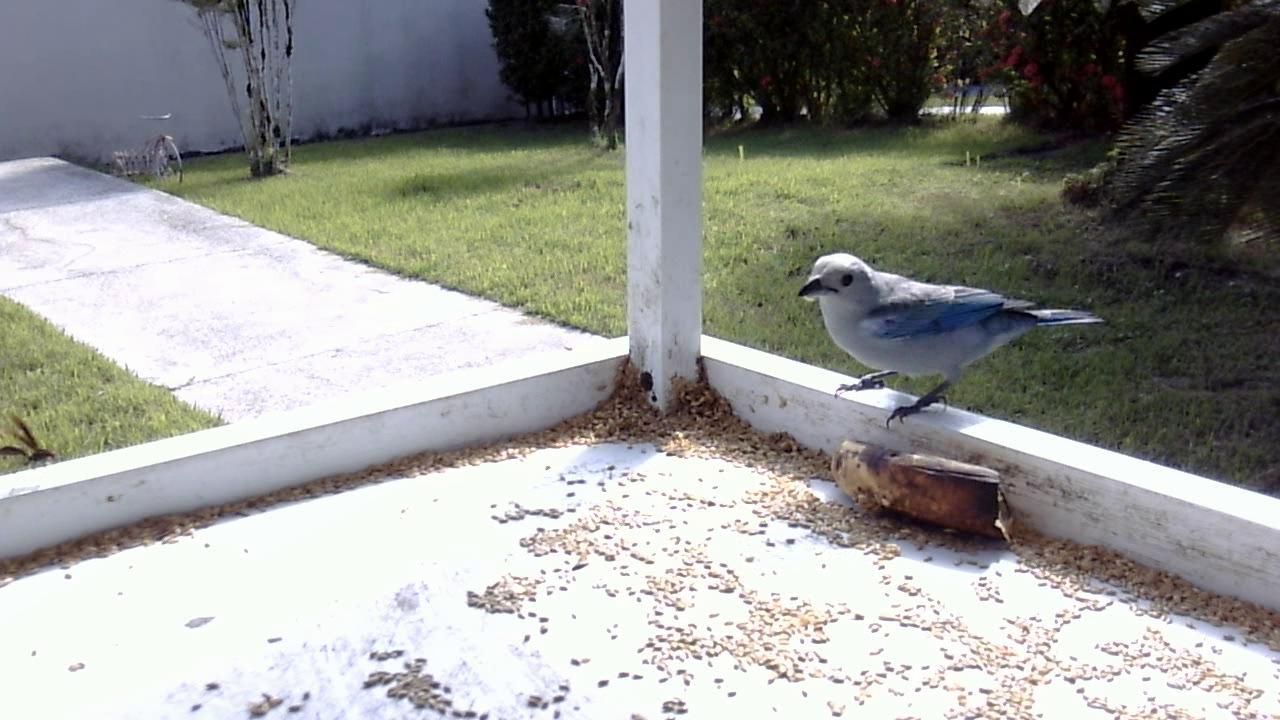sanhaco_da_amazonia: (794, 248, 1103, 428)
